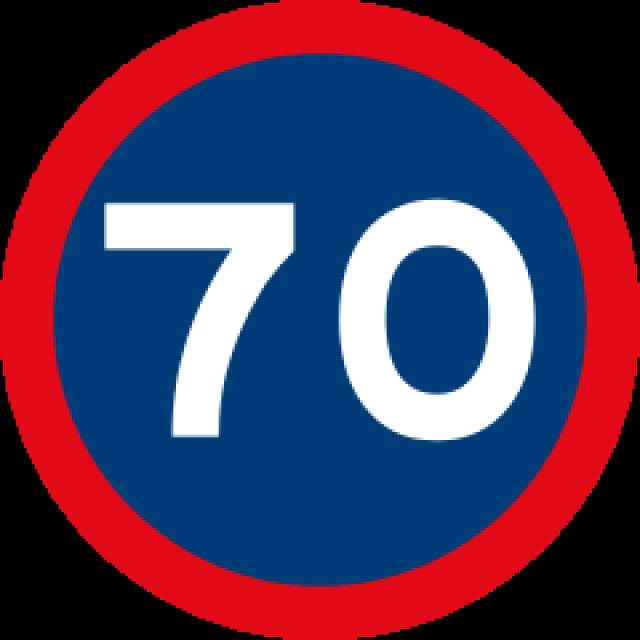Speed Limit -70-: (64, 164, 544, 492)
